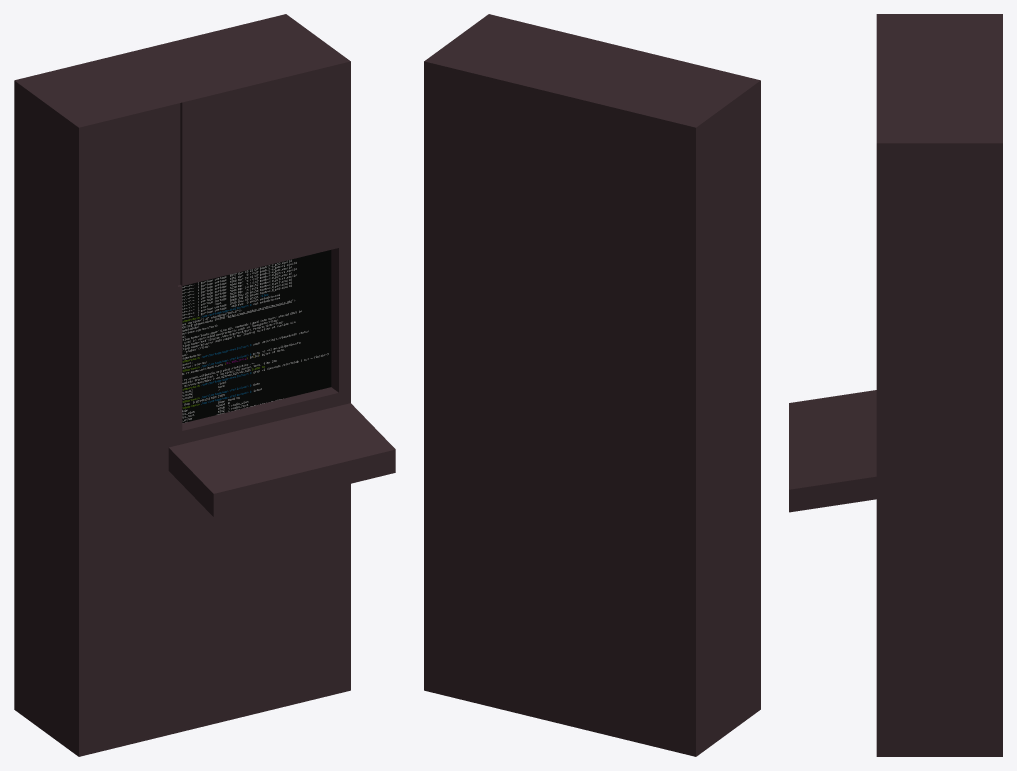
The model's file is compilator.fbx.
3 renders of one model, left to right at view 1: azimuth 30°, elevation 25°; view 2: azimuth 150°, elevation 25°; view 3: azimuth 270°, elevation 25°, orthographic. The views are drawn at different scales.
Parts seen in each view (by area): view 1: Cube; view 2: Cube; view 3: Cube.
Boxes of the visible parts, x1,y1,x2,y2 form: Cube: (14,14,395,756); Cube: (424,14,760,756); Cube: (789,14,1002,756).
Bounding box in the file's own units: 200 × 442 × 140.
